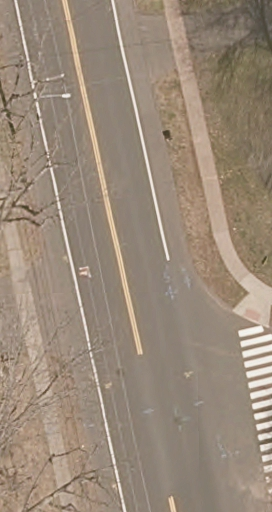DT: (13, 73, 71, 134)
